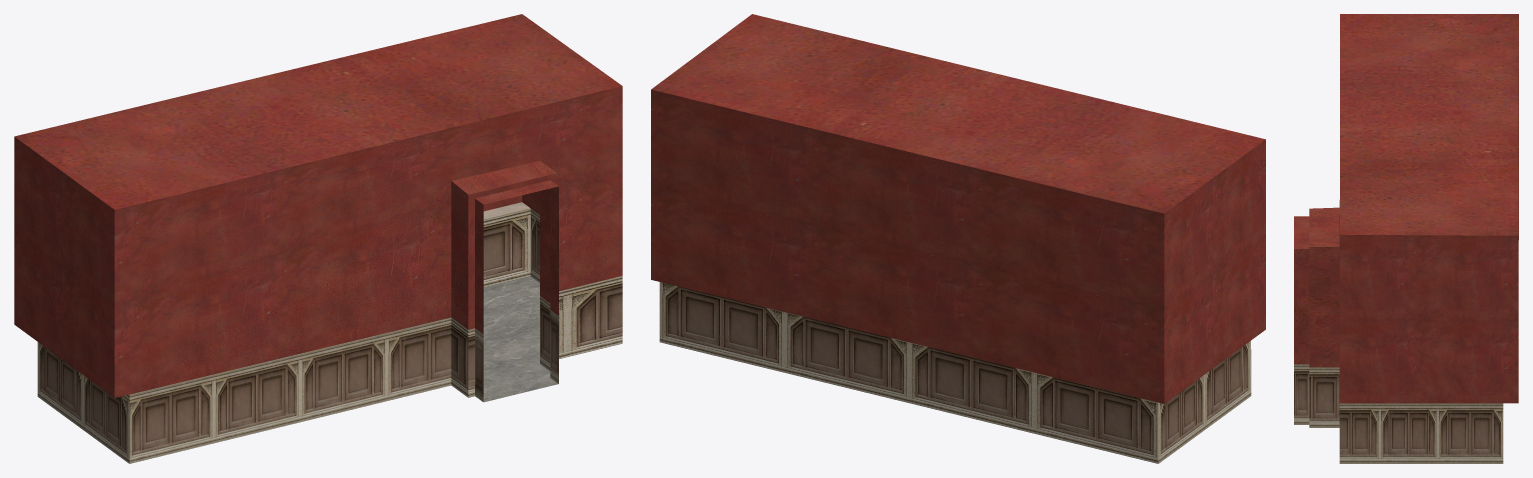
File: thm_nboo_thed_imprv_building_s10_r2_foyer2_mesh_r2.fbx
The picture shows the model from 3 angles, left to right: view 1: azimuth 30°, elevation 25°; view 2: azimuth 150°, elevation 25°; view 3: azimuth 270°, elevation 25°; orthographic projection. The views are drawn at different scales.
Parts seen in each view (by area): view 1: mesh_node; view 2: mesh_node; view 3: mesh_node.
Boxes of the visible parts, <box> form: mesh_node: <box>14,14,622,463</box>; mesh_node: <box>651,14,1265,463</box>; mesh_node: <box>1294,14,1518,463</box>.
Bounding box in the file's own units: 8.6 × 4.16 × 3.7.
